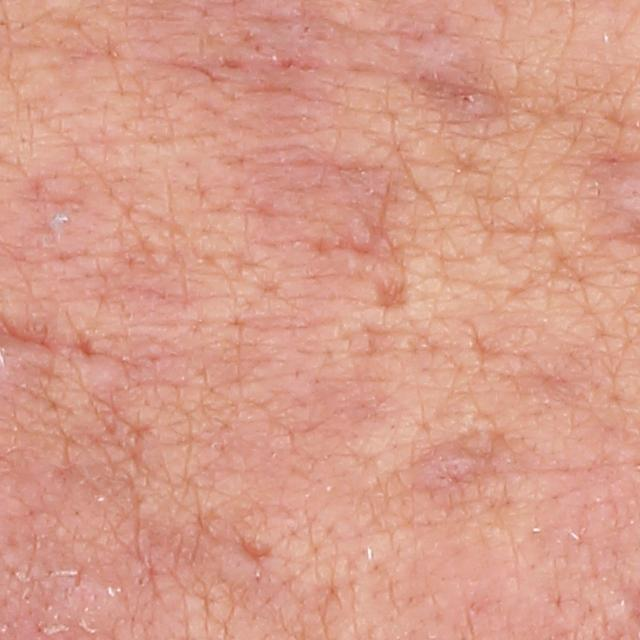atrophic_scar: (373, 273, 411, 310), (240, 535, 277, 563)
